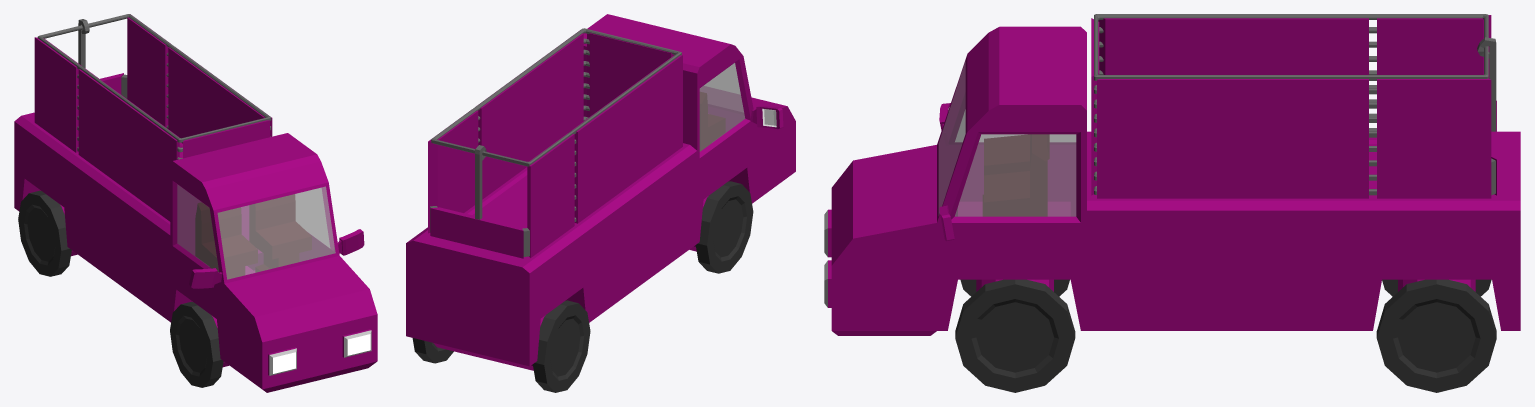
Rendered from cars12.glb.
3 renders of one model, left to right at view 1: azimuth 30°, elevation 25°; view 2: azimuth 150°, elevation 25°; view 3: azimuth 270°, elevation 25°, orthographic. The views are drawn at different scales.
Parts seen in each view (by area): view 1: Car12, Car12Tire1, Car12Tire2; view 2: Car12, Car12Tire2, Car12Tire1; view 3: Car12, Car12Tire2, Car12Tire1.
Boxes of the visible parts, box(x1,y1,x2,y2) form: Car12: box(14, 14, 377, 392); Car12Tire1: box(170, 301, 228, 387); Car12Tire2: box(18, 190, 77, 276); Car12: box(406, 14, 795, 366); Car12Tire2: box(412, 300, 590, 392); Car12Tire1: box(689, 181, 753, 273); Car12: box(824, 14, 1520, 335); Car12Tire2: box(1376, 279, 1496, 392); Car12Tire1: box(955, 279, 1075, 392).
Size of the model in its own units: 1.37 by 1.7 by 3.42.
